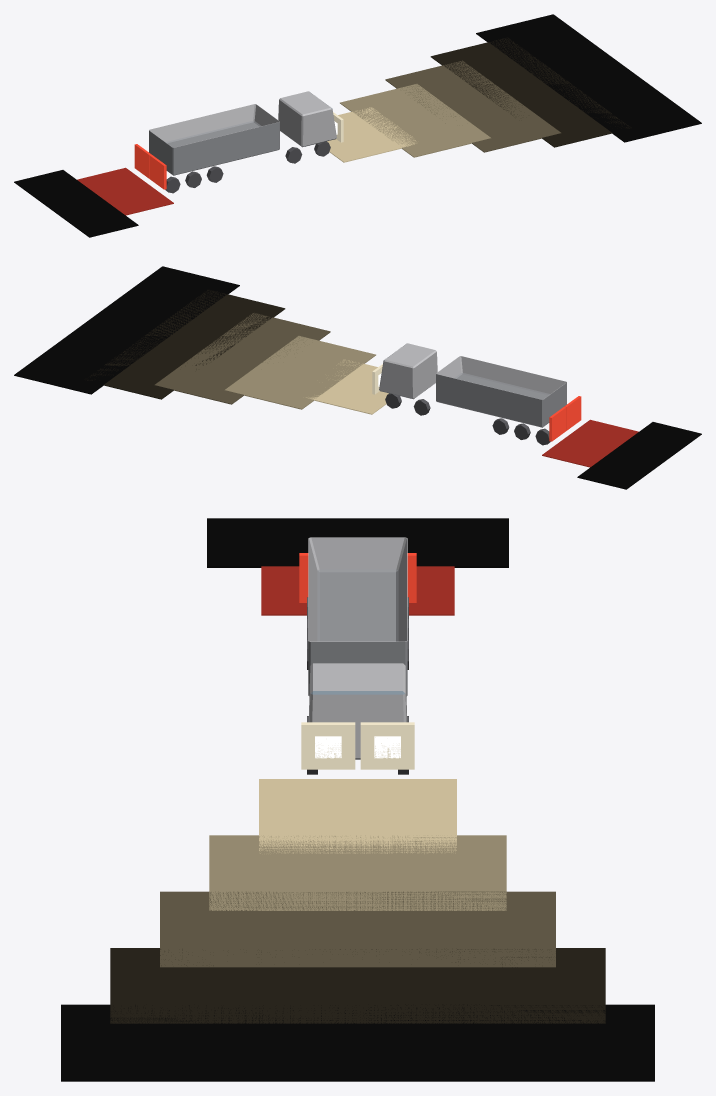
The model's file is veh_artic_tipper.glb.
The picture shows the model from 3 angles, top to bottom: view 1: azimuth 30°, elevation 25°; view 2: azimuth 150°, elevation 25°; view 3: azimuth 270°, elevation 25°; orthographic projection. The views are drawn at different scales.
Parts seen in each view (by area): view 1: veh_artic_tipper; view 2: veh_artic_tipper; view 3: veh_artic_tipper.
Part boxes in pixels (x1=…): veh_artic_tipper: x1=14, y1=14, x2=701, y2=237; veh_artic_tipper: x1=14, y1=266, x2=701, y2=489; veh_artic_tipper: x1=61, y1=518, x2=654, y2=1081.
Size of the model in its own units: 3.09 by 0.235 by 1.38.
